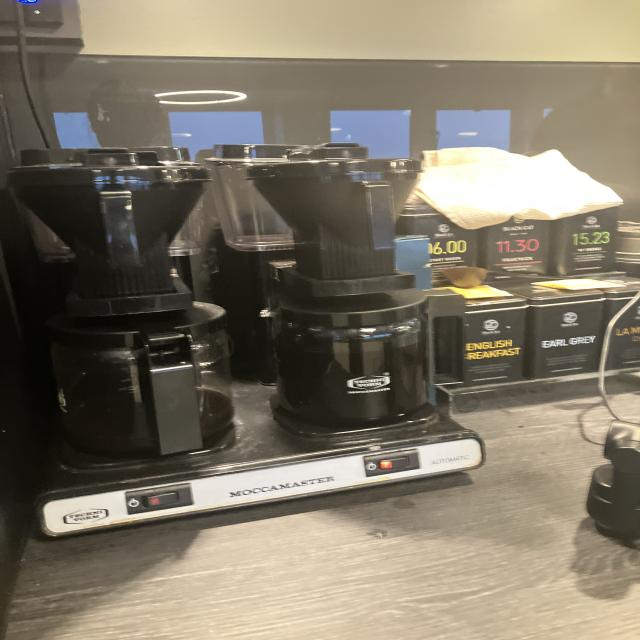coffee: (44, 293, 242, 458), (266, 290, 430, 424)
